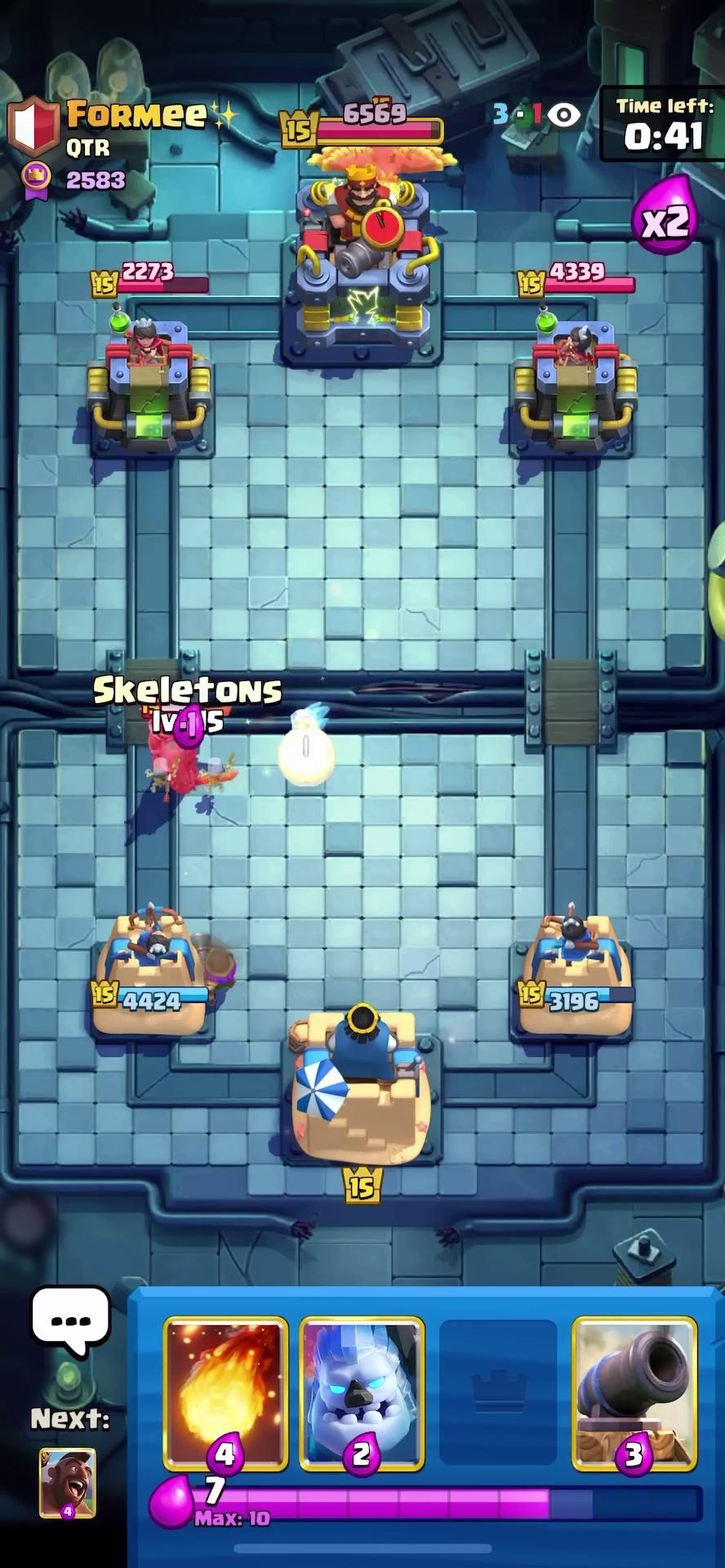ice_spirit: (278, 696, 339, 753)
musketeer: (196, 925, 251, 1007)
